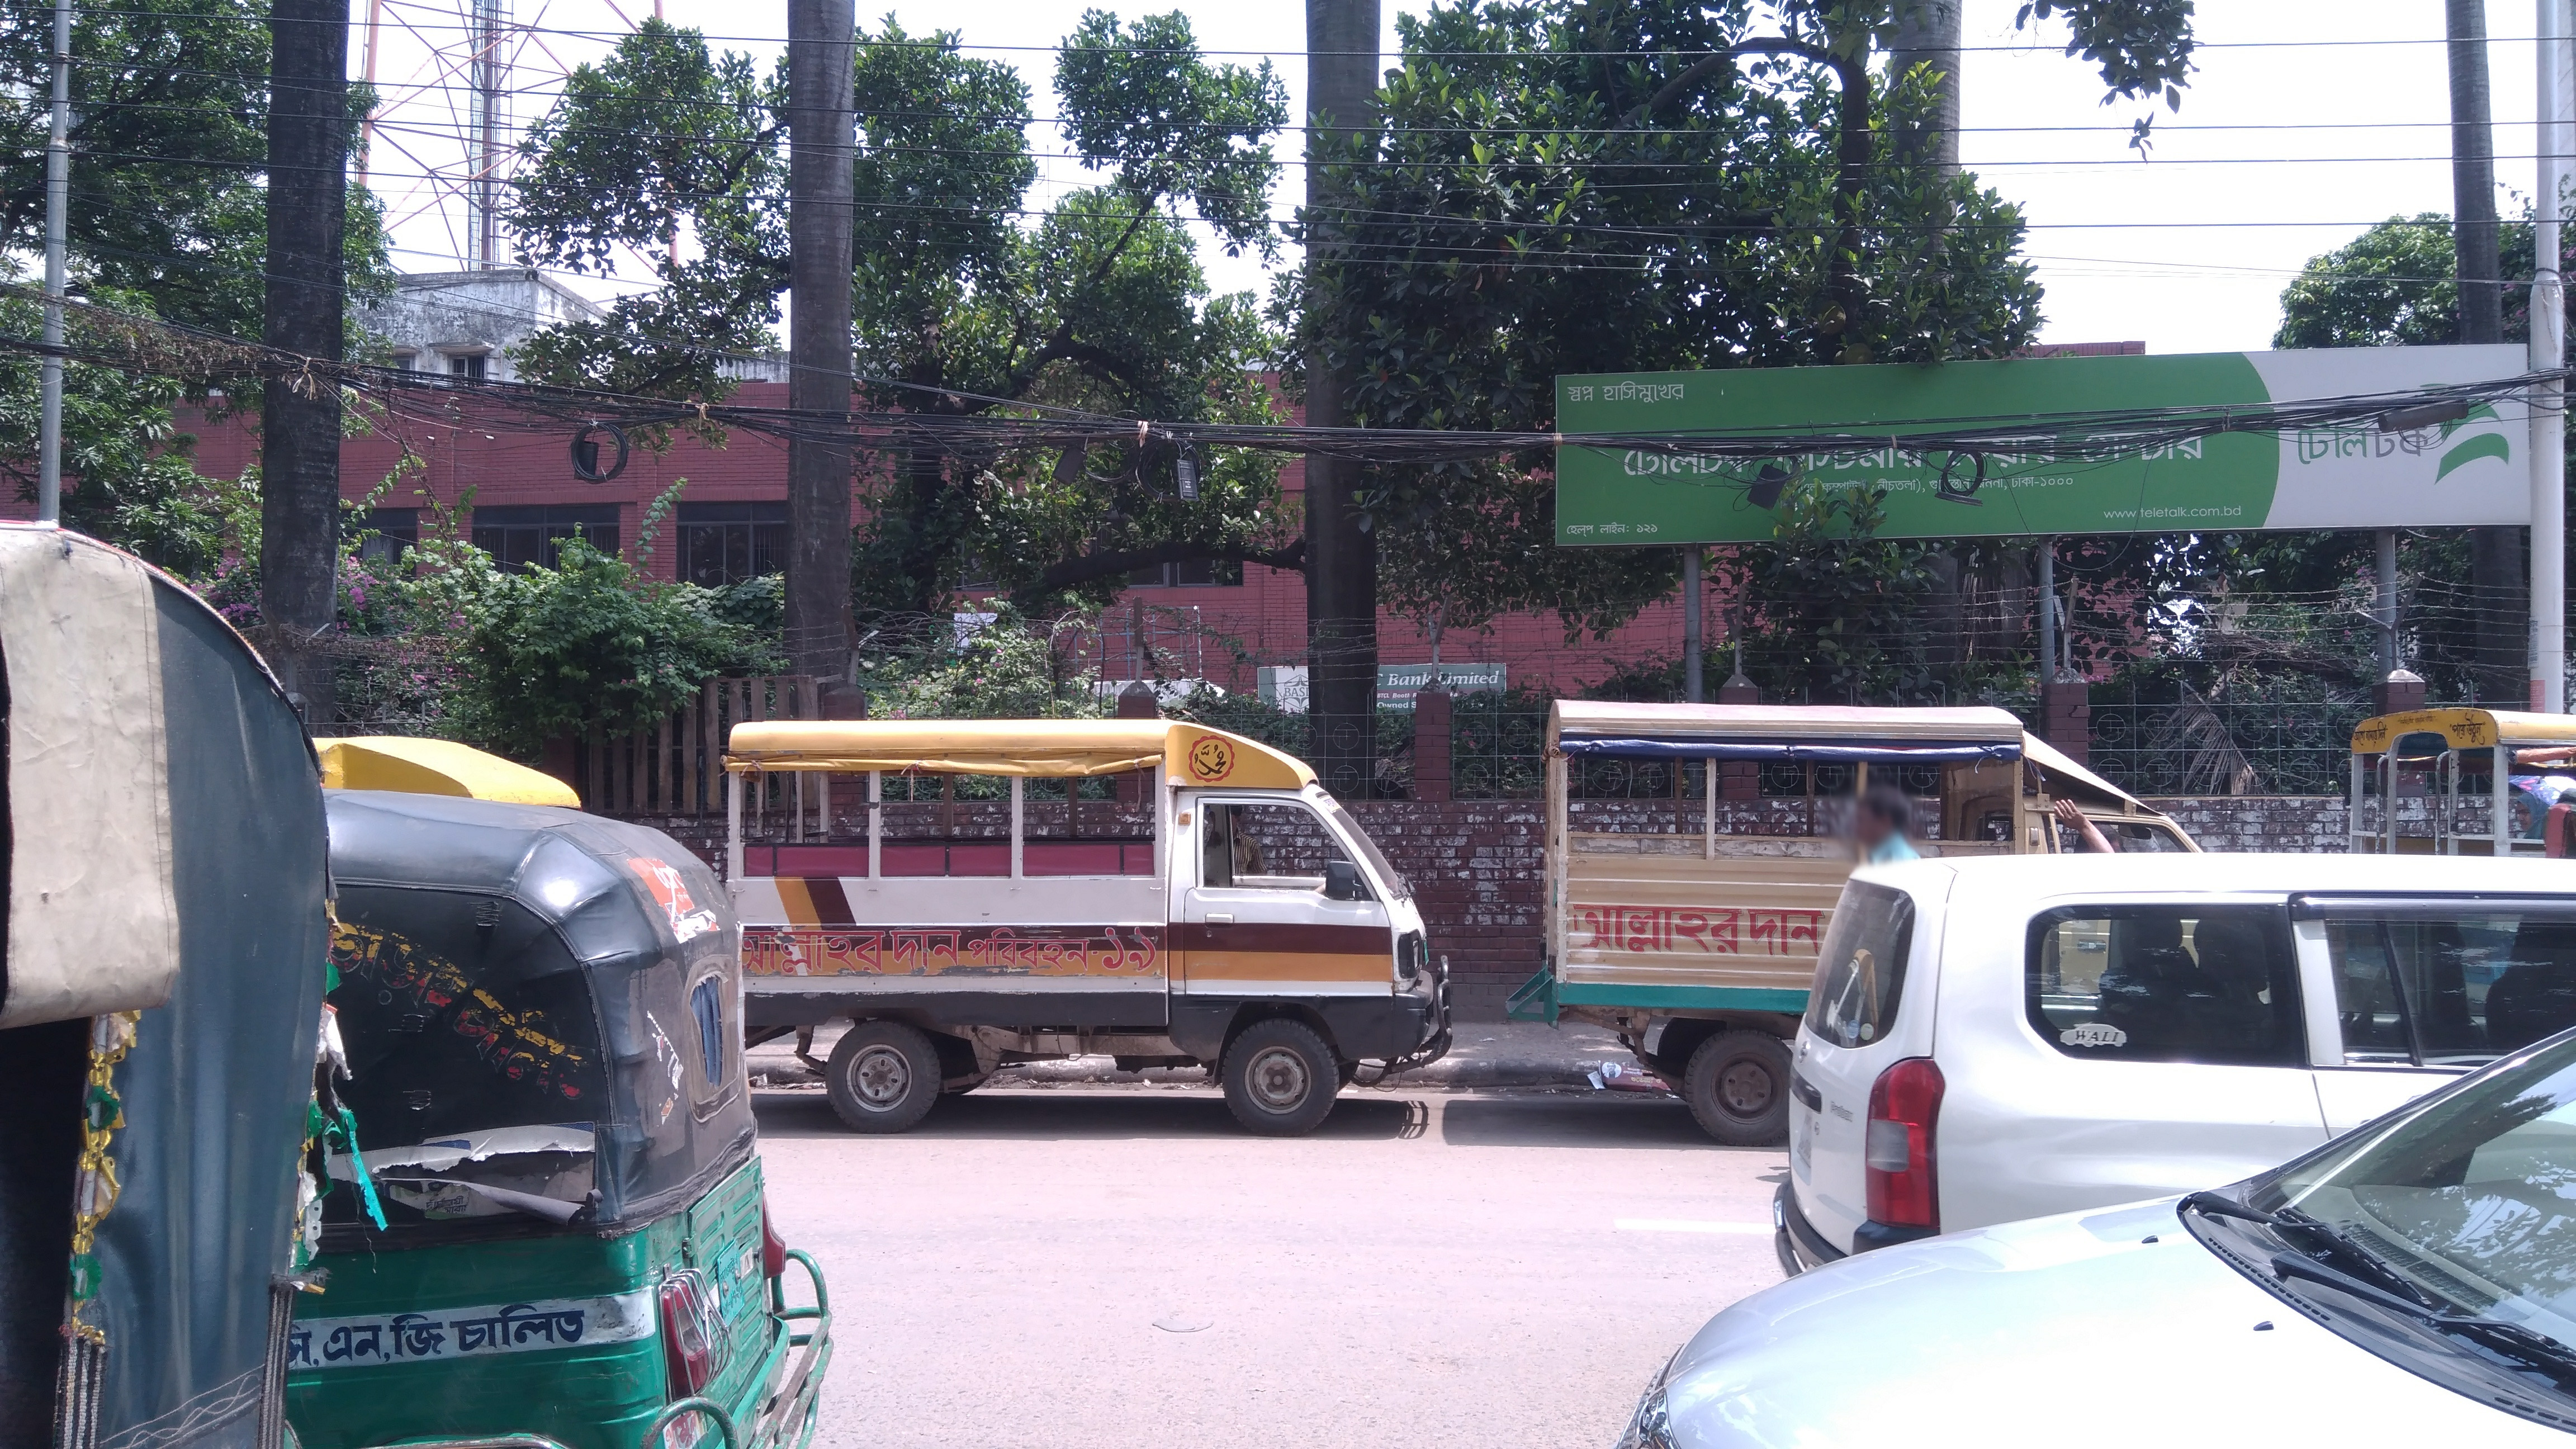car: (1621, 1019, 2574, 1449), (1775, 851, 2576, 1269)
cng: (287, 803, 835, 1449)
leguna: (1511, 702, 2213, 1143), (724, 720, 1458, 1136), (2353, 706, 2576, 853), (318, 731, 580, 807)
rickshaw: (0, 524, 318, 1449)
